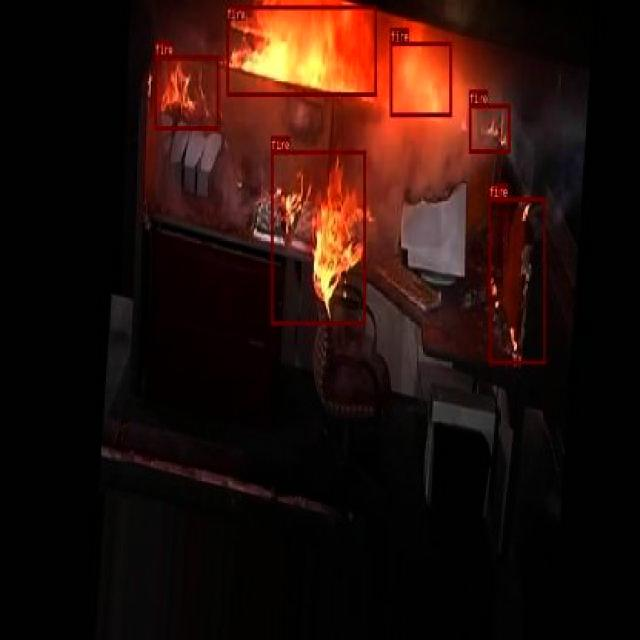fire: (270, 150, 366, 324), (226, 5, 377, 96), (488, 197, 546, 363), (154, 56, 218, 130), (390, 40, 452, 116), (468, 103, 510, 152)
